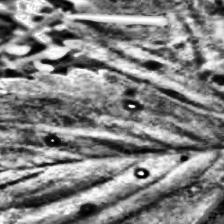Leaf Spot: (0, 64, 224, 224), (63, 0, 224, 140)
